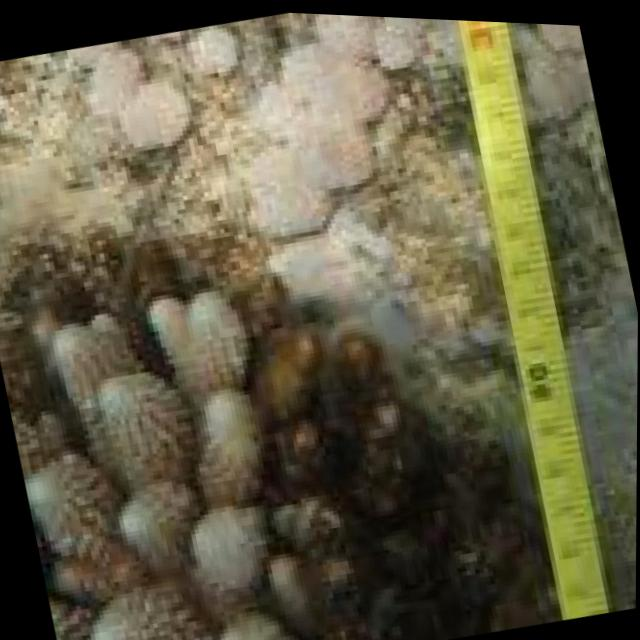Bleached Coral: (96, 3, 467, 275)
